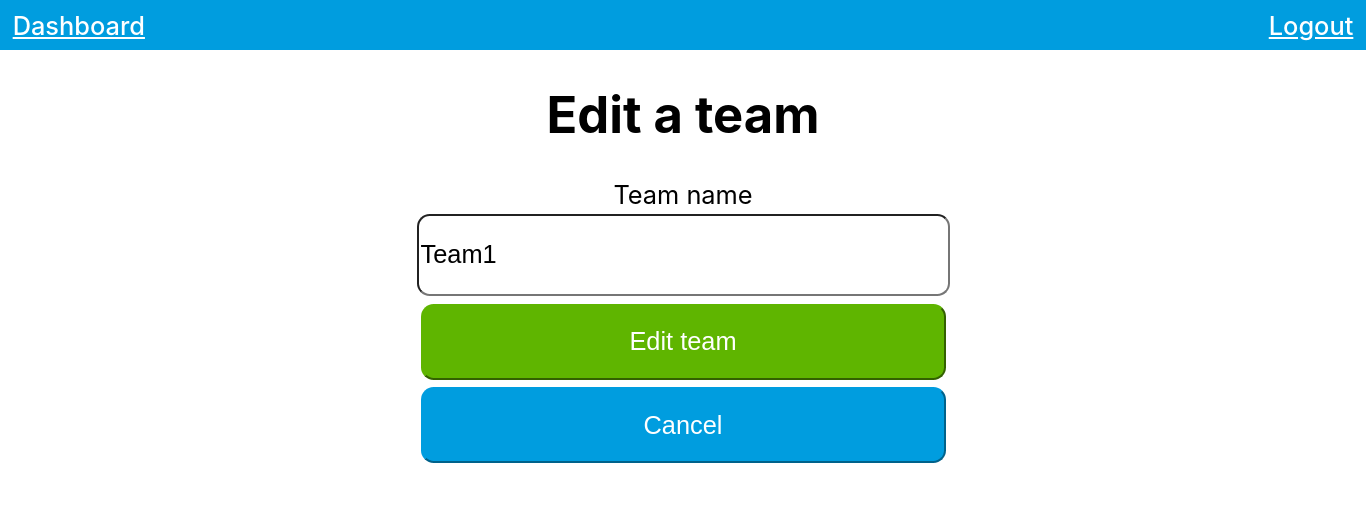
Scenario: shows error when team name has not changed
Expected: the heading "Edit a team" is shown, [333,84,1033,145]
What coordinates should you click on to do the following:
click the button "Edit team"
I would click on:
 (683, 342)
Its box is [420,304,946,380].
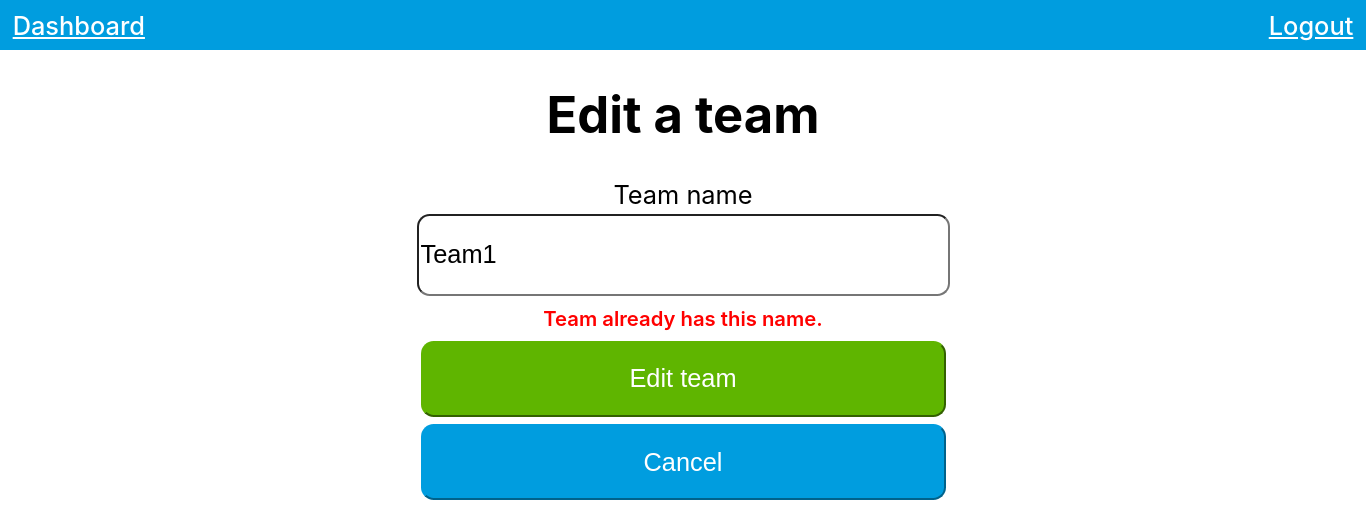
Expected: the text "Team already has this name." is shown, [333,300,1033,337]
